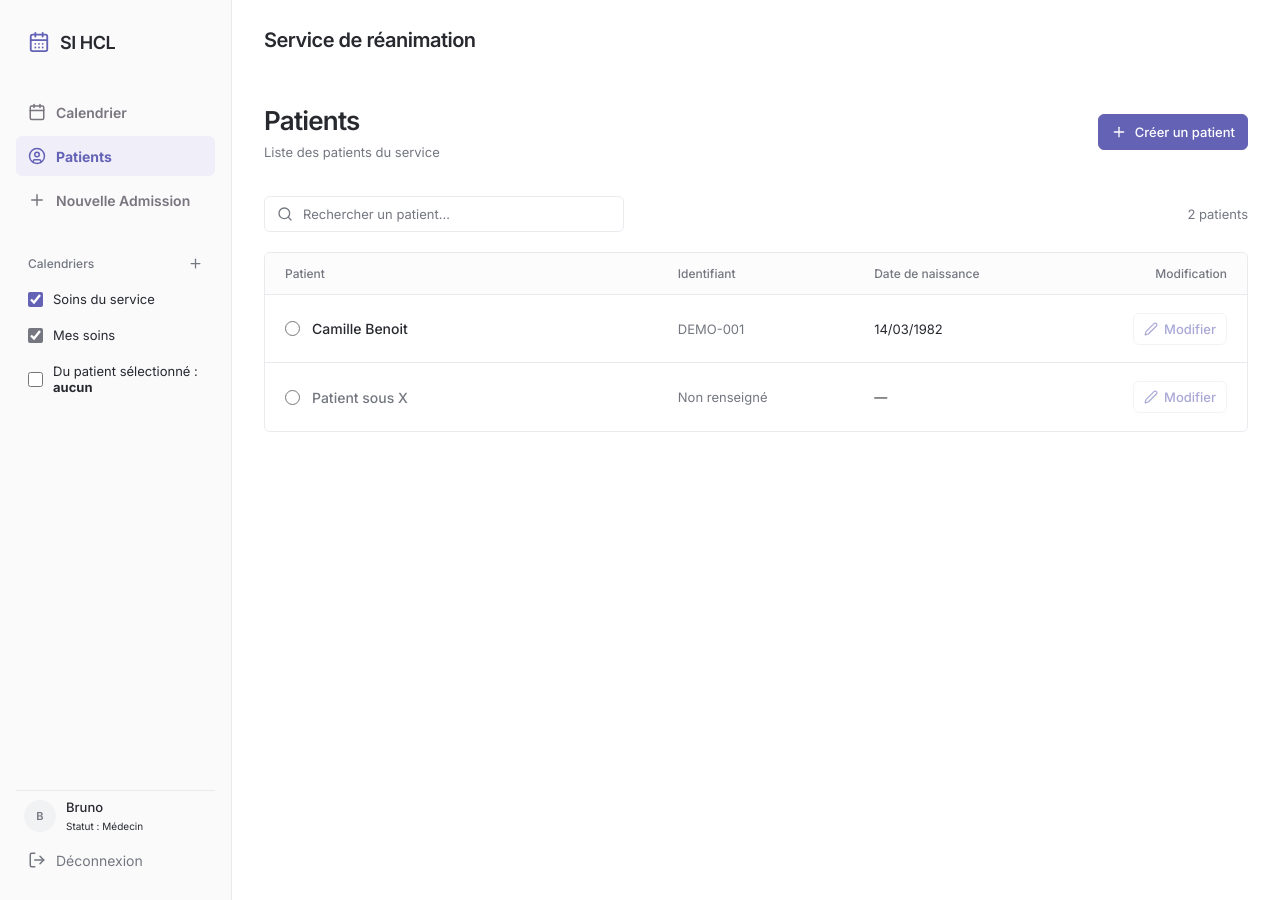
Scenario: shows the selected patient in the sidebar
The width and height of the screenshot is (1280, 900).
Click the row "Camille Benoit DEMO-001 14/03/1982 Modifier" at (756, 329), box [265,295,1247,363]
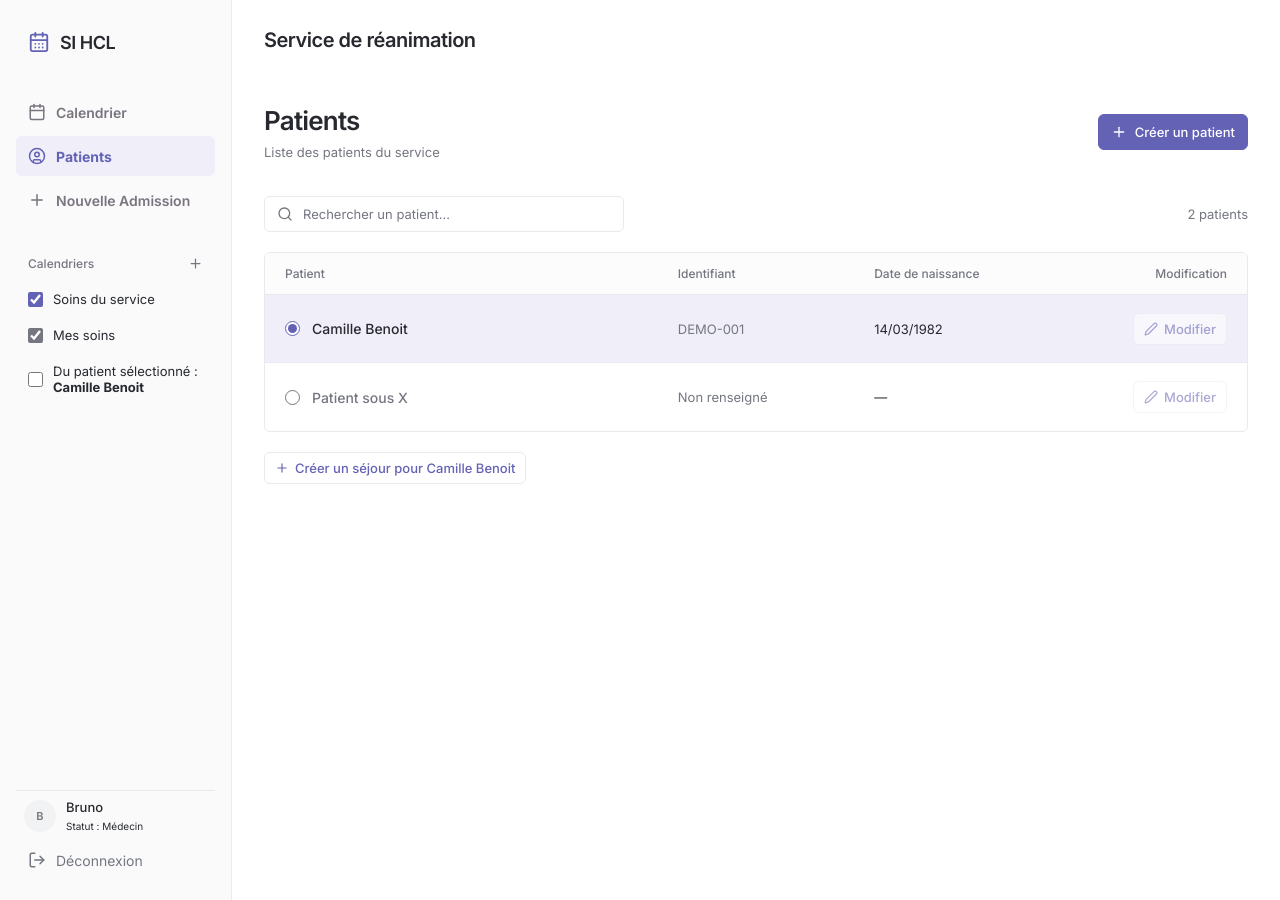
Check: the element that starts with "SI HCL" shows "Camille Benoit", box [53,379,144,395]
